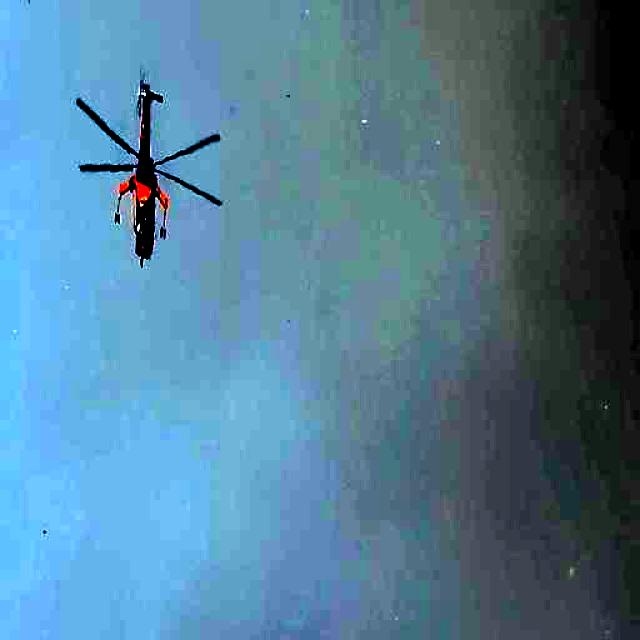drone: (50, 34, 245, 296)
